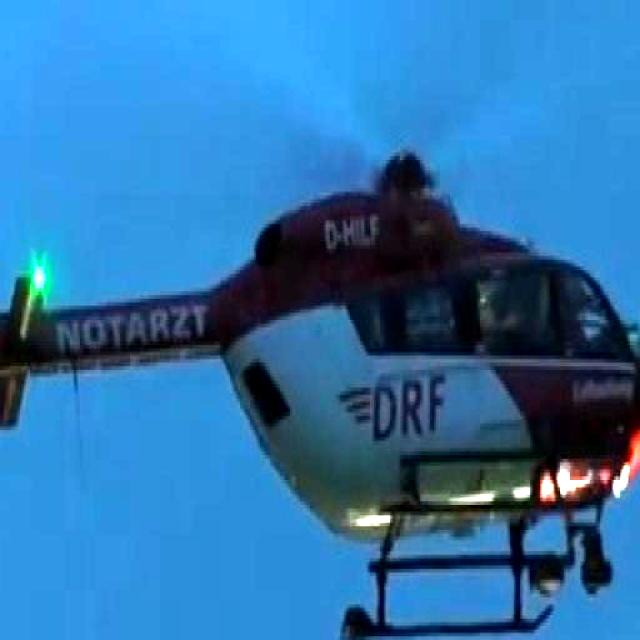drone: (0, 105, 640, 640)
